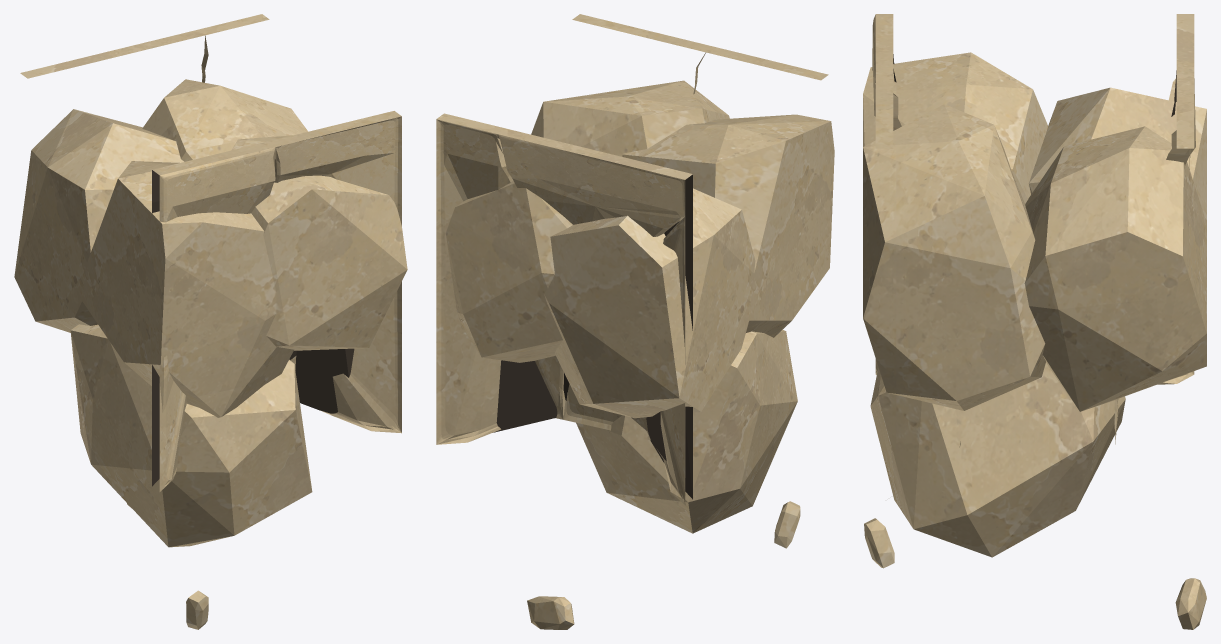
File: ground_bottom_strip_02.glb
The picture shows the model from 3 angles, left to right: view 1: azimuth 30°, elevation 25°; view 2: azimuth 150°, elevation 25°; view 3: azimuth 270°, elevation 25°; orthographic projection. The views are drawn at different scales.
Parts seen in each view (by area): view 1: GroundBottomStrip02_Body; view 2: GroundBottomStrip02_Body; view 3: GroundBottomStrip02_Body.
Boxes of the visible parts, bbox=[...] form: GroundBottomStrip02_Body: bbox=[14, 14, 407, 629]; GroundBottomStrip02_Body: bbox=[436, 14, 834, 629]; GroundBottomStrip02_Body: bbox=[863, 14, 1206, 629].
Size of the model in its own units: 1 by 1.86 by 1.08.
8 materials, 7 textured.
